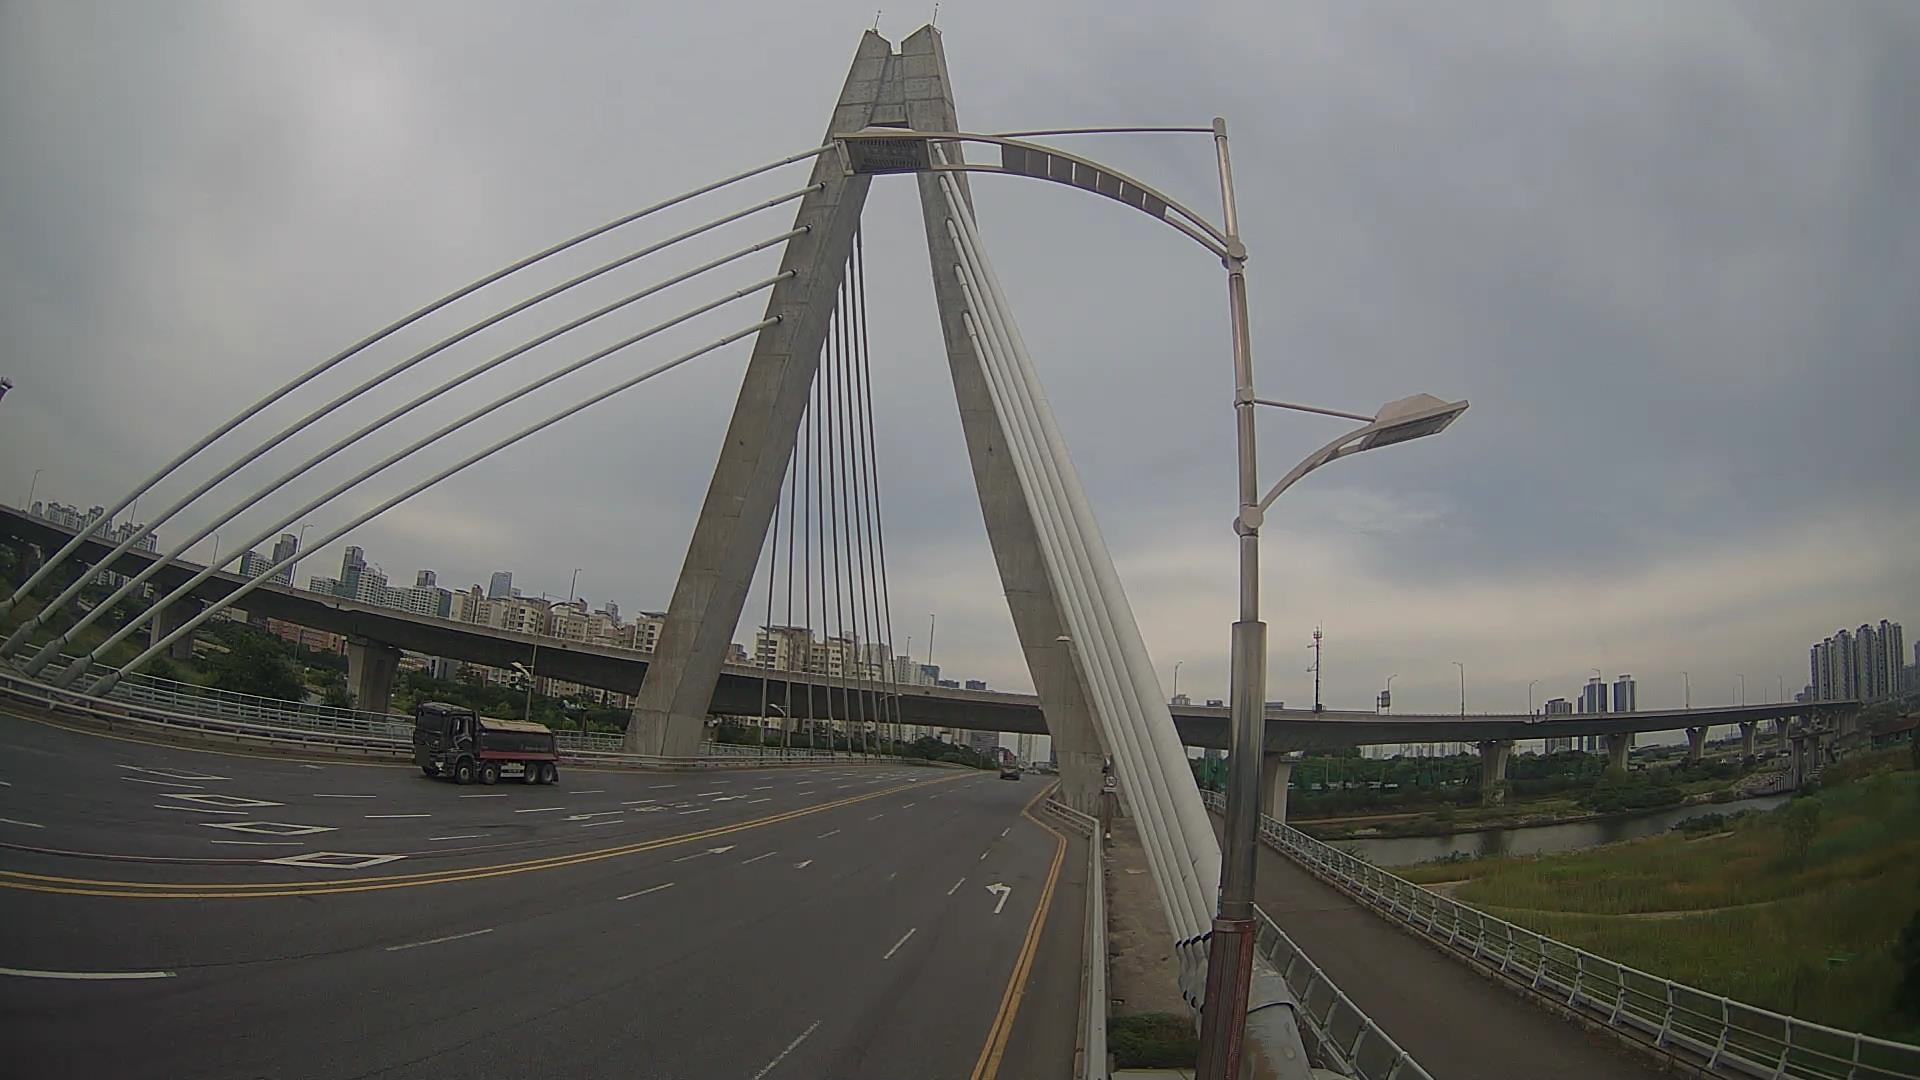정상차량: (413, 703, 560, 785)
